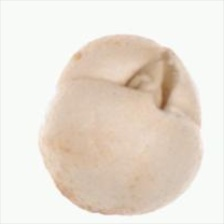L3: (124, 51, 179, 117)
L4: (37, 33, 203, 216)
